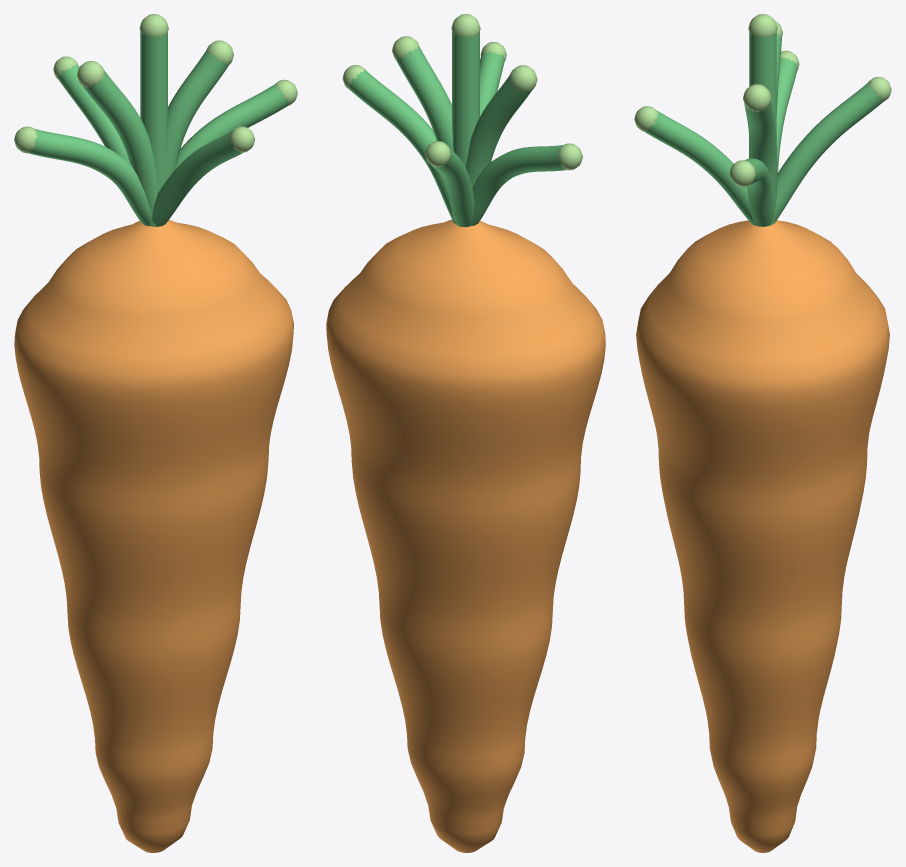
File: Crop_Carrot_Normal_v001_blockout.fbx
3 views of the same model, side by side, from view 1: azimuth 30°, elevation 25°; view 2: azimuth 150°, elevation 25°; view 3: azimuth 270°, elevation 25° (orthographic).
Parts seen in each view (by area): view 1: Crop_Carrot_Normal_v001_Body_Blockout, LeafStem_LeftWide, LeafStem_Center, LeafStem_LeftTall, LeafStem_RightTall, LeafStem_Front, LeafStem_RightWide, LeafStem_Back, LeafStem_LeftTall_RoundedTip, LeafStem_Center_RoundedTip; view 2: Crop_Carrot_Normal_v001_Body_Blockout, LeafStem_Center, LeafStem_RightWide, LeafStem_LeftWide, LeafStem_LeftTall, LeafStem_RightTall, LeafStem_Back, LeafStem_Front, LeafStem_LeftTall_RoundedTip, LeafStem_Center_RoundedTip, LeafStem_Back_RoundedTip, LeafStem_LeftWide_RoundedTip; view 3: Crop_Carrot_Normal_v001_Body_Blockout, LeafStem_Back, LeafStem_Front, LeafStem_RightTall, LeafStem_Center, LeafStem_RightWide, LeafStem_LeftWide, LeafStem_RightTall_RoundedTip, LeafStem_RightWide_RoundedTip, LeafStem_Center_RoundedTip.
Boxes of the visible parts, <box> form: Crop_Carrot_Normal_v001_Body_Blockout: <box>14,219,293,852</box>; LeafStem_LeftWide: <box>28,128,154,226</box>; LeafStem_Center: <box>140,31,167,224</box>; LeafStem_LeftTall: <box>82,70,157,226</box>; LeafStem_RightTall: <box>165,50,229,182</box>; LeafStem_Front: <box>152,131,242,226</box>; LeafStem_RightWide: <box>175,84,288,169</box>; LeafStem_Back: <box>57,64,129,162</box>; LeafStem_LeftTall_RoundedTip: <box>77,61,104,87</box>; LeafStem_Center_RoundedTip: <box>139,14,168,37</box>; Crop_Carrot_Normal_v001_Body_Blockout: <box>326,219,605,852</box>; LeafStem_Center: <box>452,31,479,221</box>; LeafStem_RightWide: <box>349,70,455,224</box>; LeafStem_LeftWide: <box>469,145,566,226</box>; LeafStem_LeftTall: <box>466,75,531,226</box>; LeafStem_RightTall: <box>396,47,455,223</box>; LeafStem_Back: <box>431,149,474,227</box>; LeafStem_Front: <box>480,51,505,116</box>; LeafStem_LeftTall_RoundedTip: <box>509,65,537,92</box>; LeafStem_Center_RoundedTip: <box>451,14,480,37</box>; LeafStem_Back_RoundedTip: <box>425,141,451,167</box>; LeafStem_LeftWide_RoundedTip: <box>557,143,582,170</box>; Crop_Carrot_Normal_v001_Body_Blockout: <box>636,220,889,852</box>; LeafStem_Back: <box>774,83,883,223</box>; LeafStem_Front: <box>645,111,753,224</box>; LeafStem_RightTall: <box>744,101,777,226</box>; LeafStem_Center: <box>749,31,776,222</box>; LeafStem_RightWide: <box>745,158,774,226</box>; LeafStem_LeftWide: <box>776,58,797,173</box>; LeafStem_RightTall_RoundedTip: <box>743,84,771,112</box>; LeafStem_RightWide_RoundedTip: <box>729,160,756,186</box>; LeafStem_Center_RoundedTip: <box>748,14,777,37</box>.
Bounding box in the file's own units: 103 × 319 × 89.12.
